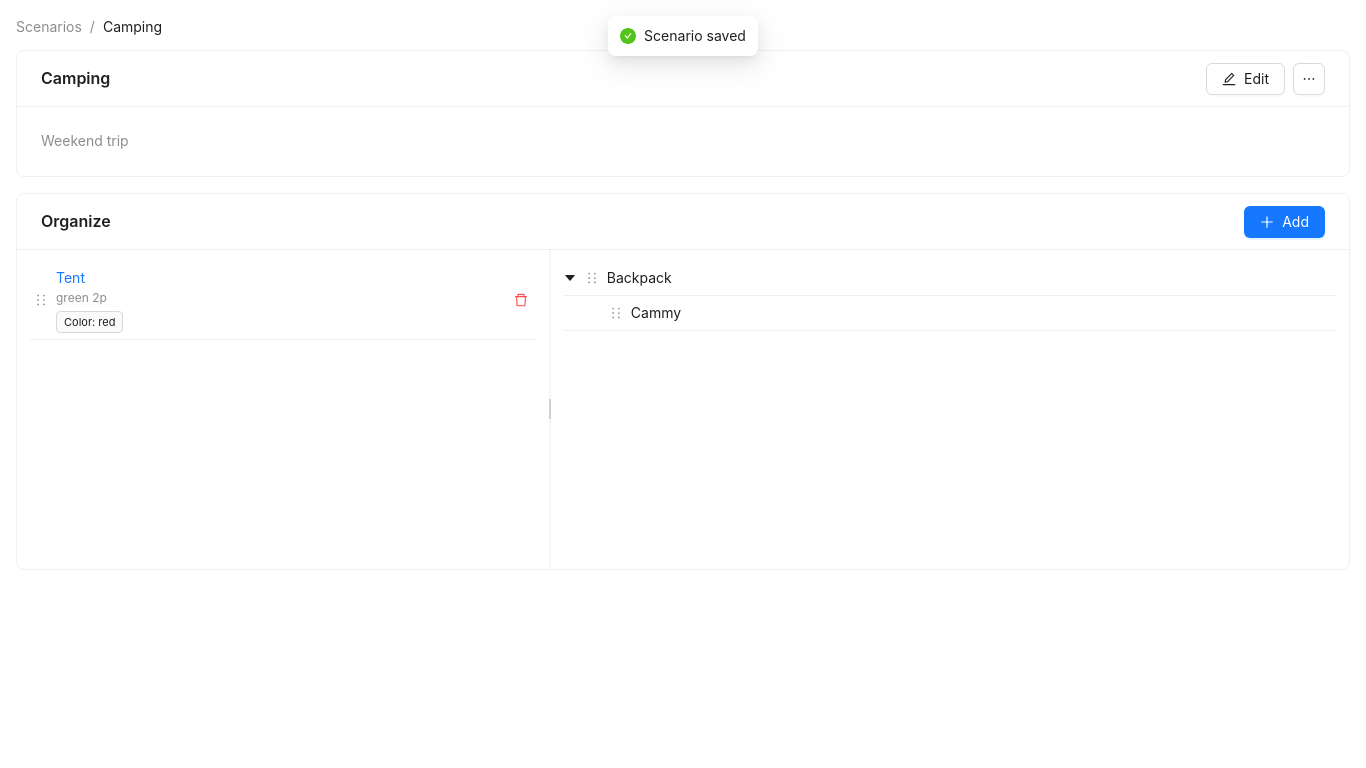
Test: ScenarioDetailPage (iteration 18 — actions, rich rows, dnd-kit panes) › deletes the scenario via the kebab menu and returns to the list
Click the button named "scenario-actions": (1309, 78) [1293, 62, 1325, 94]
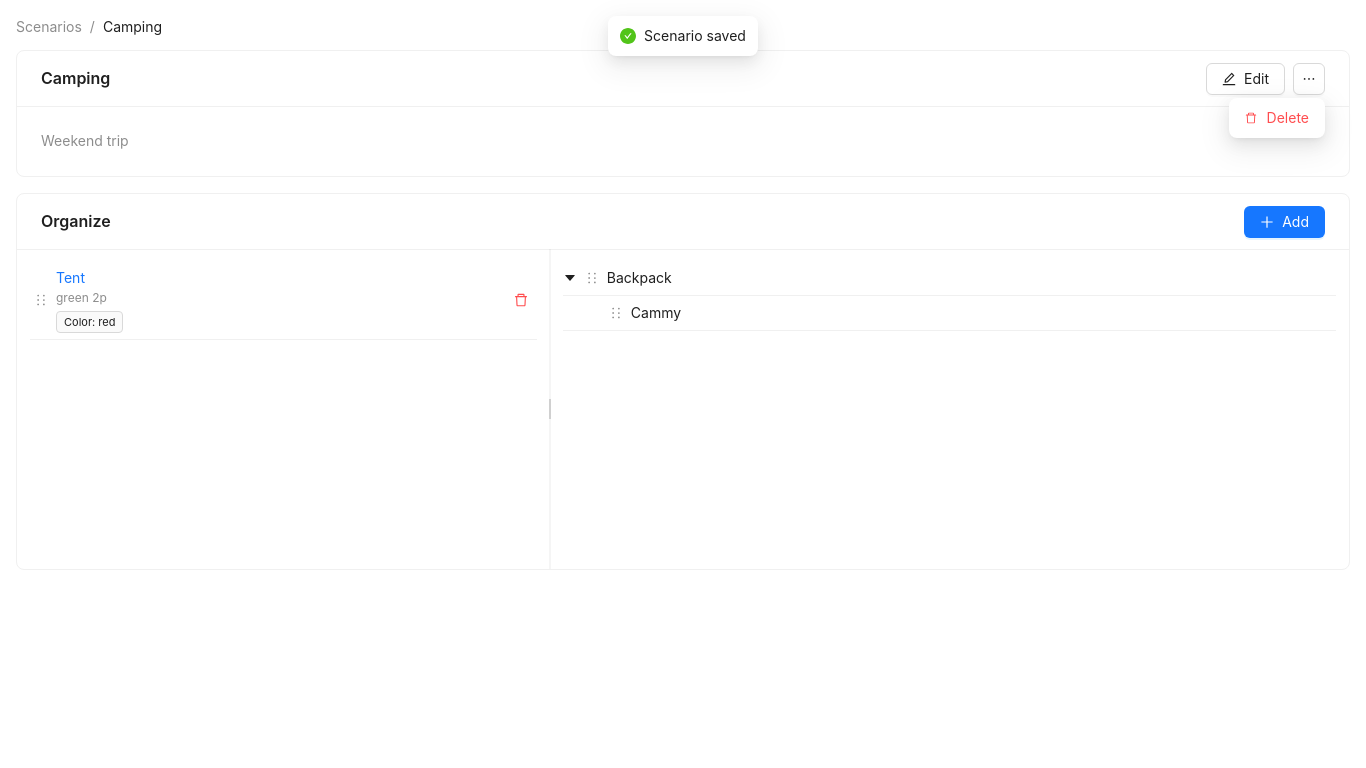
Click the menu item "Delete": (1277, 118) [1245, 109, 1309, 126]
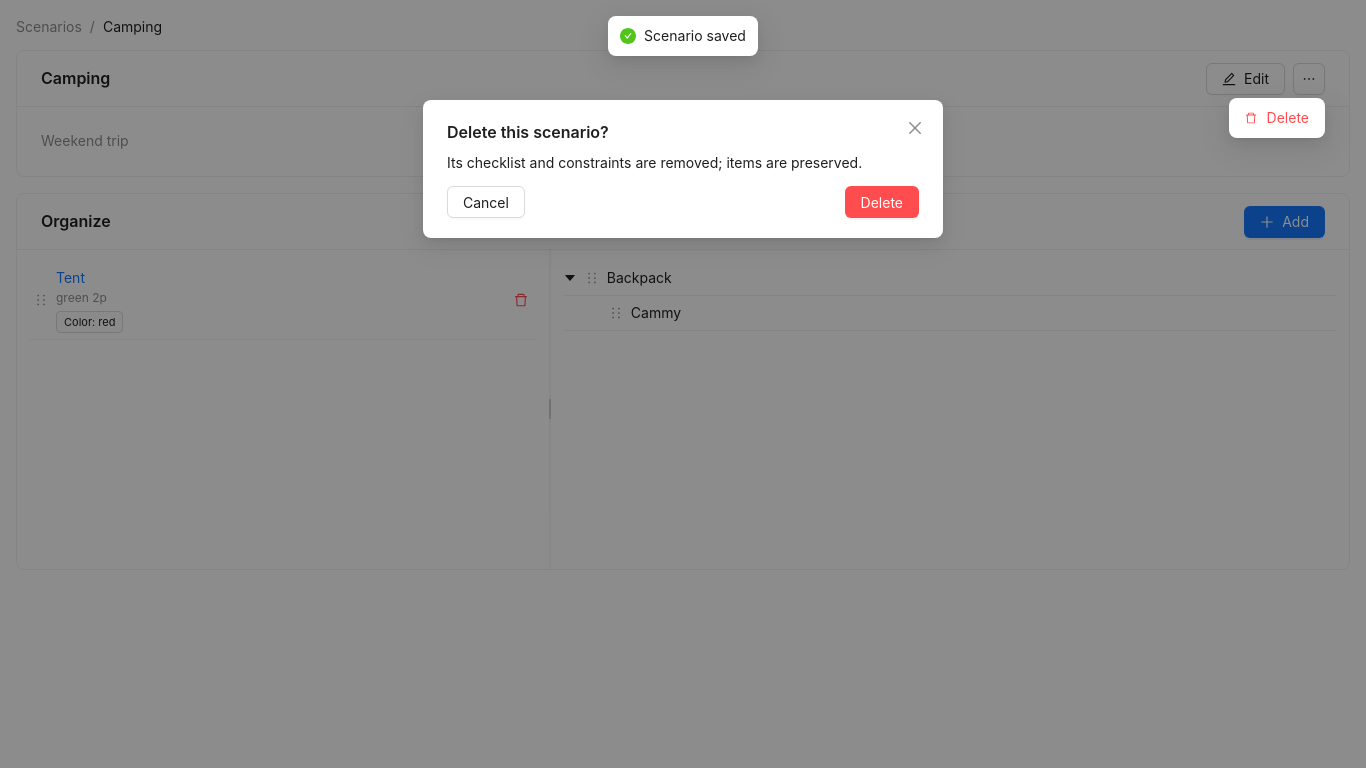
Click the button "Delete": (882, 202) [845, 186, 919, 218]
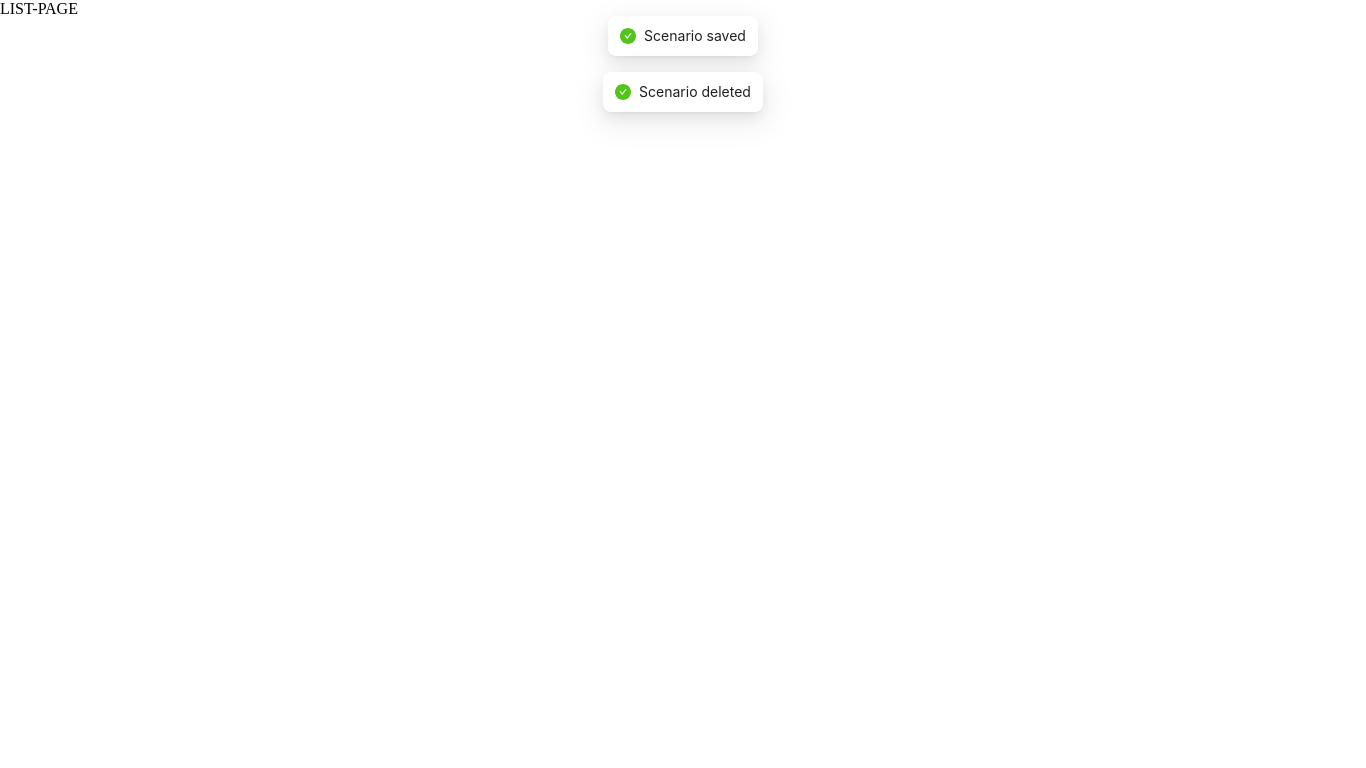
Expected: the text "LIST-PAGE" is shown, [0, 0, 78, 17]
